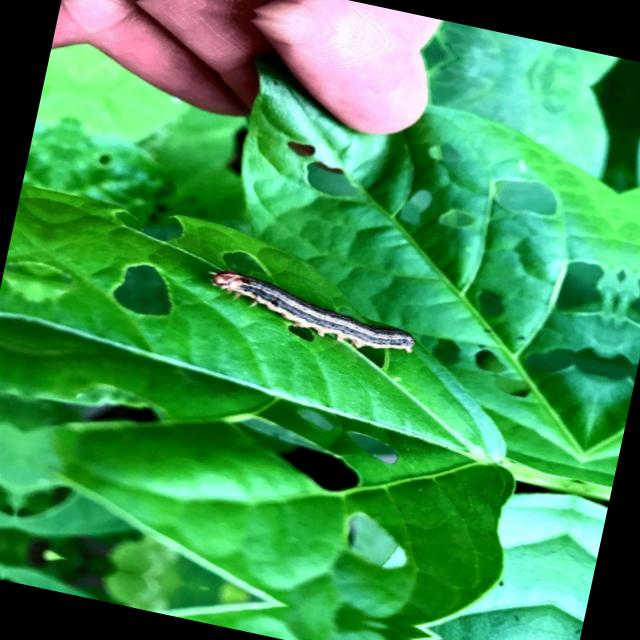Armyworm: (172, 256, 426, 361)
Armyworm_damage: (197, 397, 382, 520), (323, 490, 442, 590), (85, 241, 200, 337), (98, 192, 206, 251), (489, 164, 572, 227), (292, 155, 386, 210), (437, 194, 493, 240), (456, 338, 515, 381), (474, 284, 507, 317)
